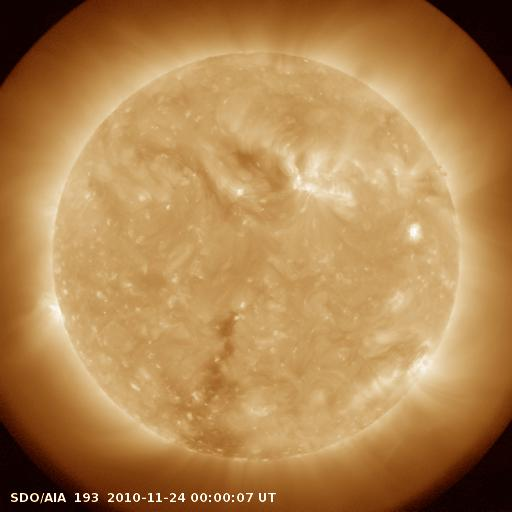coronal_hole: (165, 311, 243, 456), (227, 145, 269, 177)
